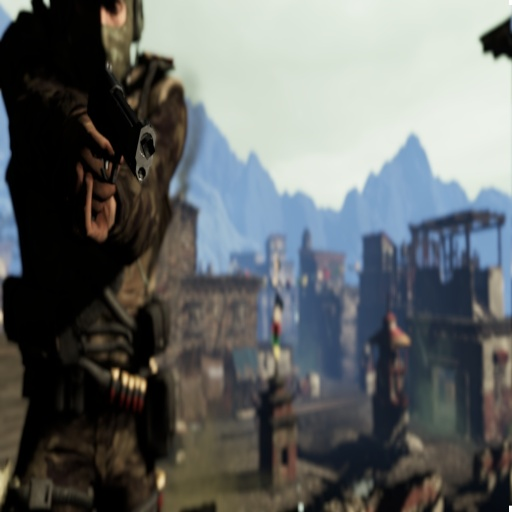hand: (67, 157, 119, 246)
